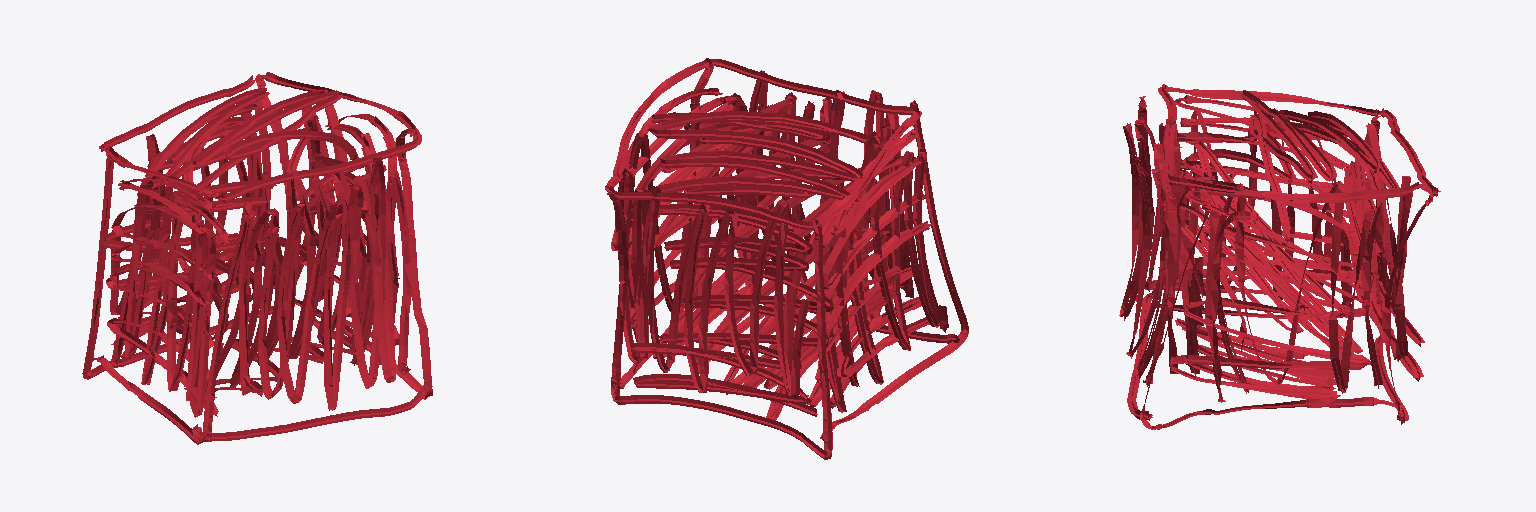
3 renders of one model, left to right at view 1: azimuth 30°, elevation 25°; view 2: azimuth 150°, elevation 25°; view 3: azimuth 270°, elevation 25°, orthographic.
Size of the model in its own units: 0.6405 by 0.6858 by 0.6996.
Materials: 1 (1 with a texture image).